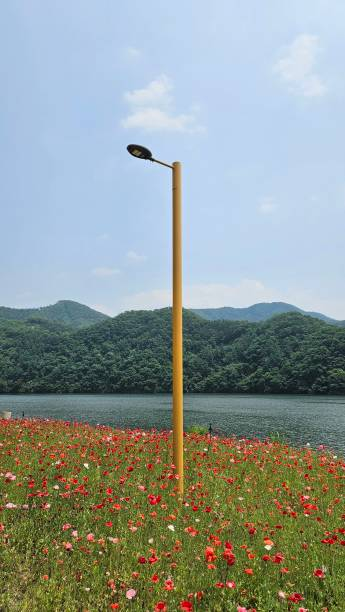light_pole: (168, 163, 186, 499)
